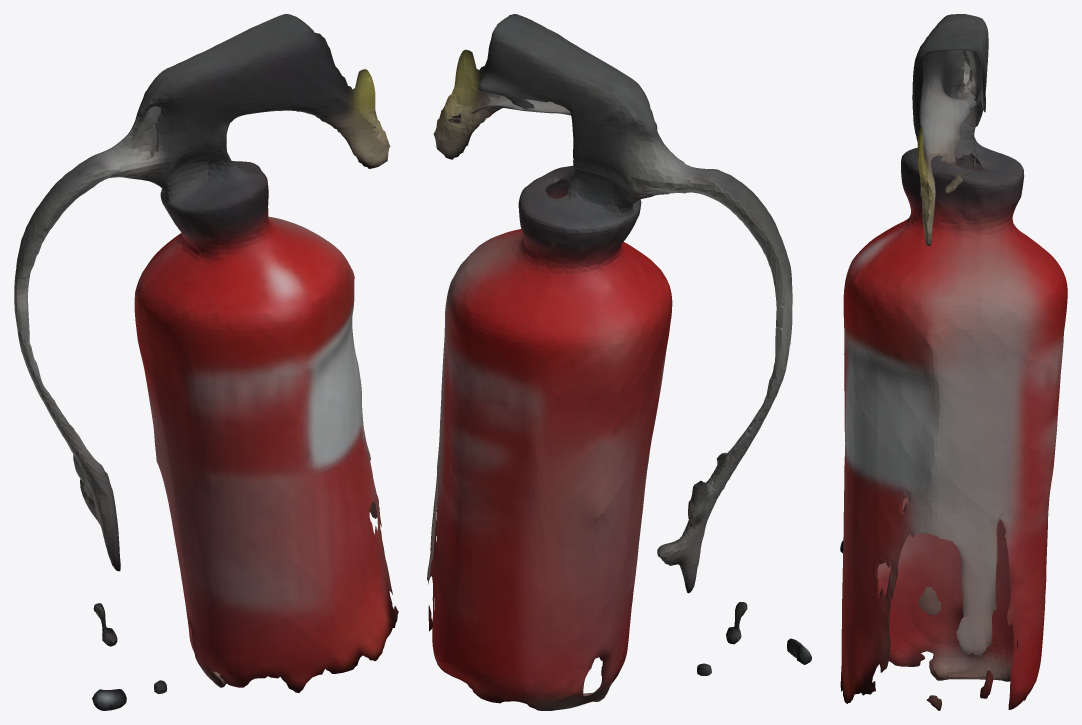
Rendered from trellis_multidiffusion.glb.
3 views of the same model, side by side, from view 1: azimuth 30°, elevation 25°; view 2: azimuth 150°, elevation 25°; view 3: azimuth 270°, elevation 25° (orthographic). The views are drawn at different scales.
Visible parts, largest first — view 1: world; view 2: world; view 3: world.
Part boxes in pixels (bbox=[...]): world: bbox=[14, 14, 398, 710]; world: bbox=[427, 14, 811, 710]; world: bbox=[840, 14, 1067, 710].
Size of the model in its own units: 0.5879 by 1 by 0.3055.
